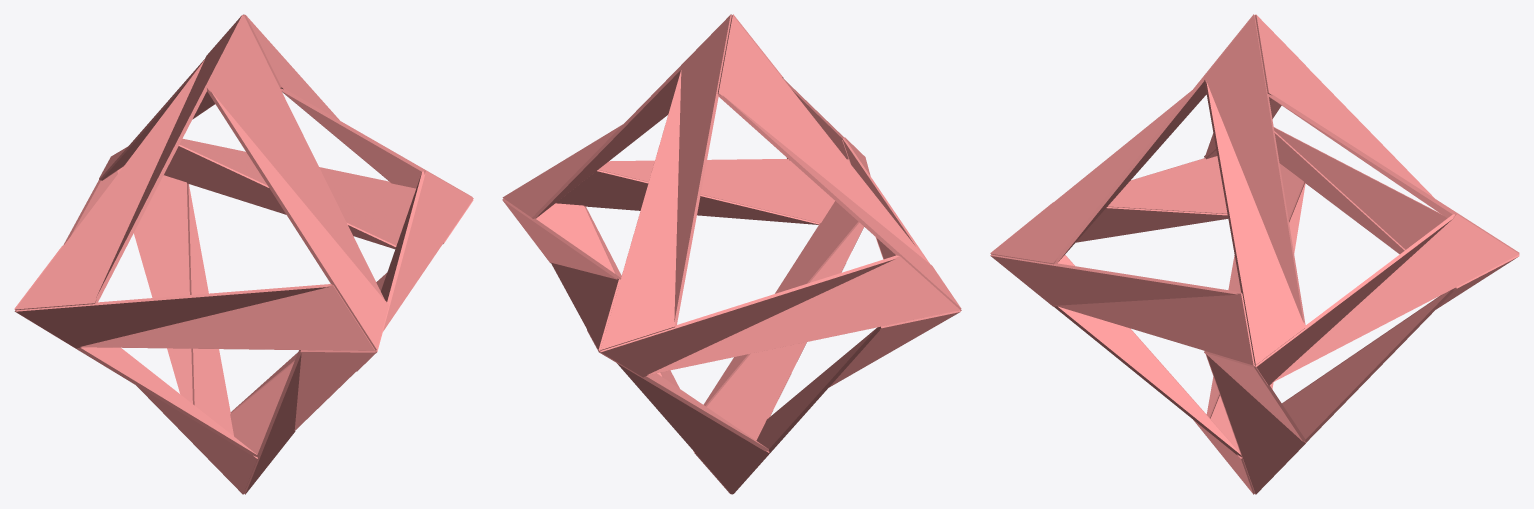
The model's file is Octahedron1.glb.
3 renders of one model, left to right at view 1: azimuth 30°, elevation 25°; view 2: azimuth 150°, elevation 25°; view 3: azimuth 270°, elevation 25°, orthographic.
Visible parts, largest first — view 1: root; view 2: root; view 3: root.
Part boxes in pixels (x1,y1,x2,y2): root: (14, 14, 473, 494); root: (502, 14, 961, 494); root: (990, 14, 1519, 494).
Size of the model in its own units: 1.42 by 1.42 by 1.42.
